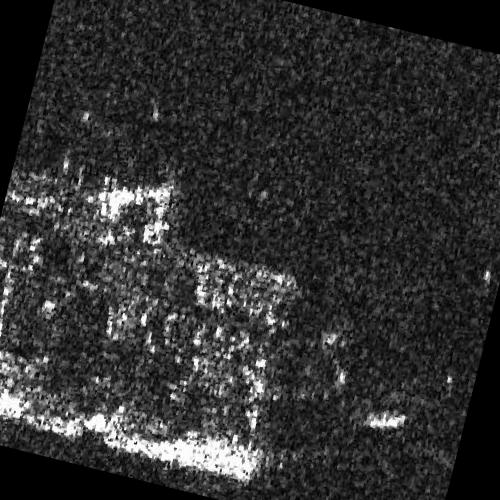ship: (362, 411, 408, 431)
